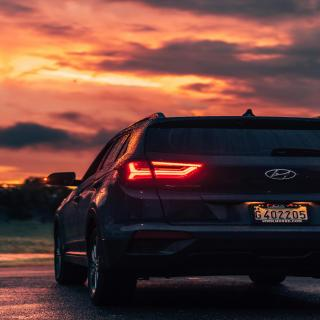Normal_vehicle: (46, 110, 320, 308)
